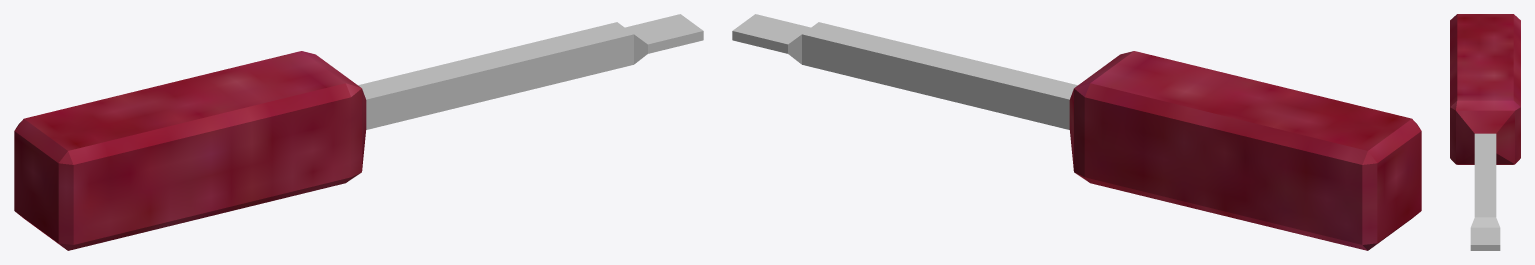
Rendered from screwdriver.fbx.
The picture shows the model from 3 angles, left to right: view 1: azimuth 30°, elevation 25°; view 2: azimuth 150°, elevation 25°; view 3: azimuth 270°, elevation 25°; orthographic projection. The views are drawn at different scales.
Parts seen in each view (by area): view 1: Cube.031; view 2: Cube.031; view 3: Cube.031.
Boxes of the visible parts, left/top/right/bottom form: Cube.031: left=14, top=14, right=703, bottom=250; Cube.031: left=732, top=14, right=1421, bottom=250; Cube.031: left=1450, top=14, right=1520, bottom=250.
Size of the model in its own units: 80.58 by 11.75 by 11.75.
